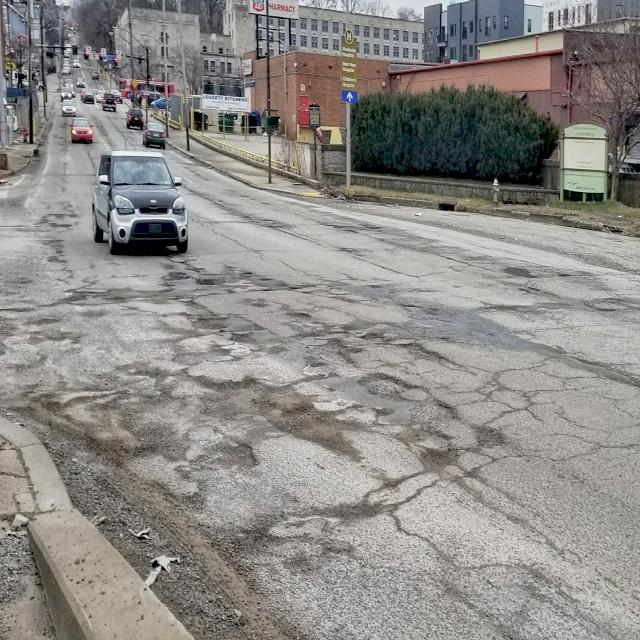Pothole: (22, 372, 384, 640), (152, 260, 288, 300)
